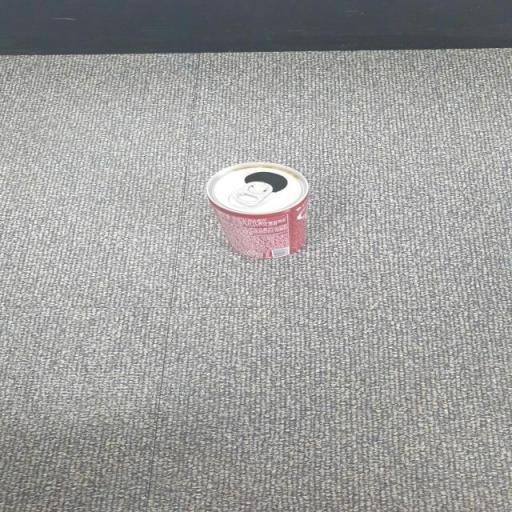metal: (189, 155, 339, 271)
